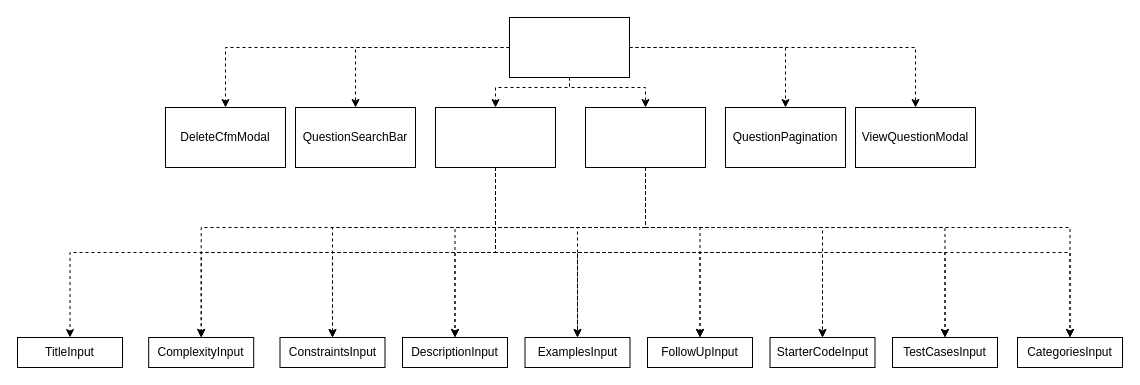
Image size: 1140x385. Some labels were removed from this diagram. The shapes that lost their labels are listed below. From the top down, each one's centre as x and y in pixels, then its label:
At point 569,47: "QuestionTable".
At point 495,137: "AddQuestionModal".
At point 645,137: "EditQuestionModal".
